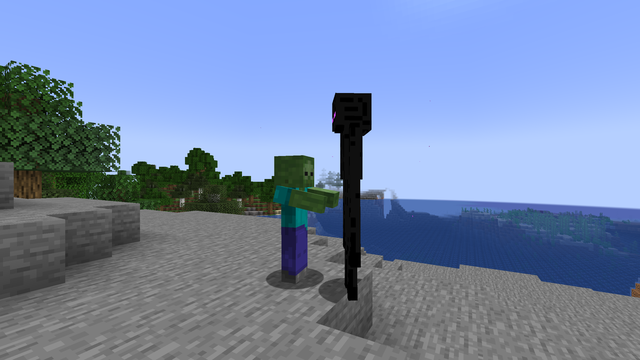endermens: (322, 82, 375, 303)
zombies: (269, 158, 314, 287)
